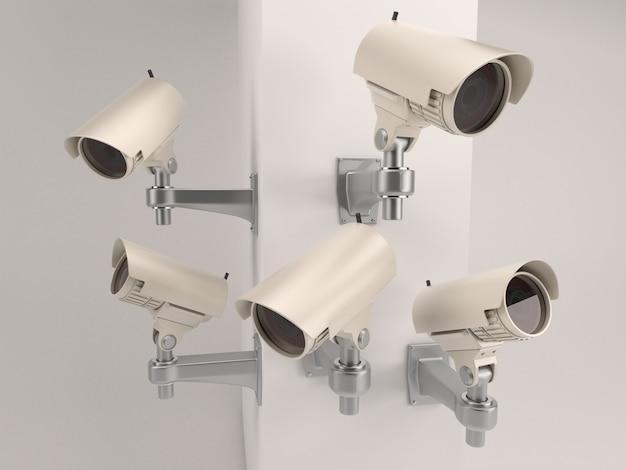camera: (403, 193, 570, 408), (20, 35, 205, 224), (239, 196, 404, 400), (335, 1, 548, 149), (66, 209, 241, 354)
